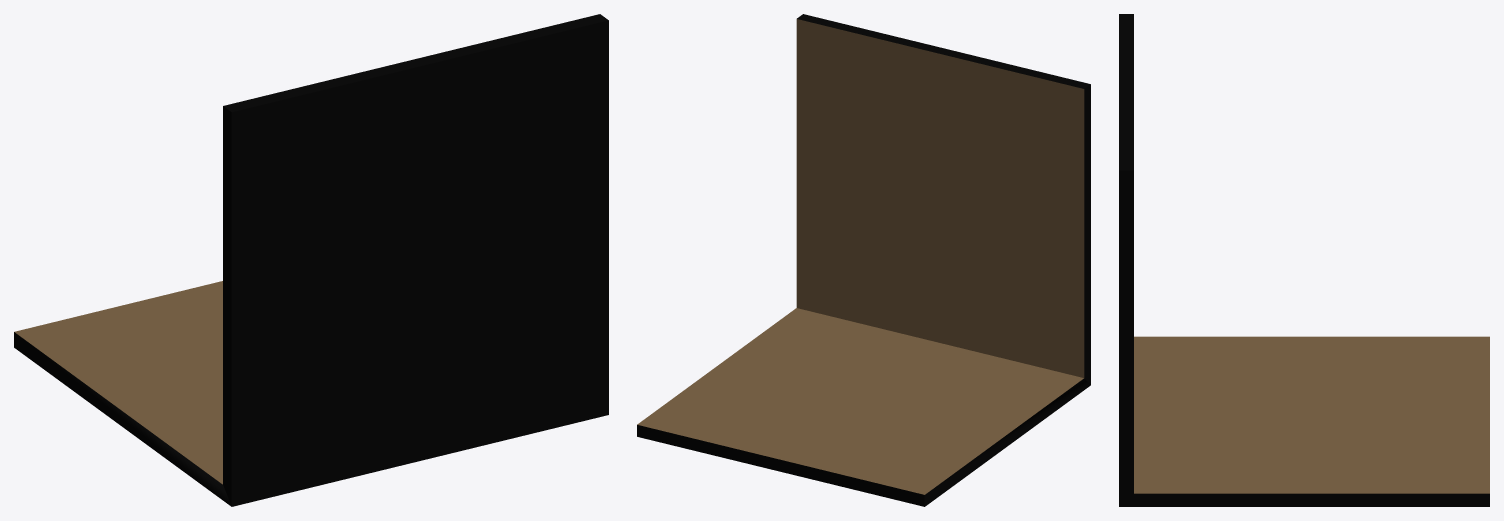
File: M_Corner_Int_5x5.fbx
3 views of the same model, side by side, from view 1: azimuth 30°, elevation 25°; view 2: azimuth 150°, elevation 25°; view 3: azimuth 270°, elevation 25° (orthographic). The views are drawn at different scales.
Parts seen in each view (by area): view 1: M_Corner_Int_5x5; view 2: M_Corner_Int_5x5; view 3: M_Corner_Int_5x5.
Part boxes in pixels (left/top/right/bottom): M_Corner_Int_5x5: left=14, top=14, right=608, bottom=506; M_Corner_Int_5x5: left=637, top=14, right=1090, bottom=506; M_Corner_Int_5x5: left=1119, top=14, right=1489, bottom=506.
Bounding box in the file's own units: 500 × 500 × 500.
